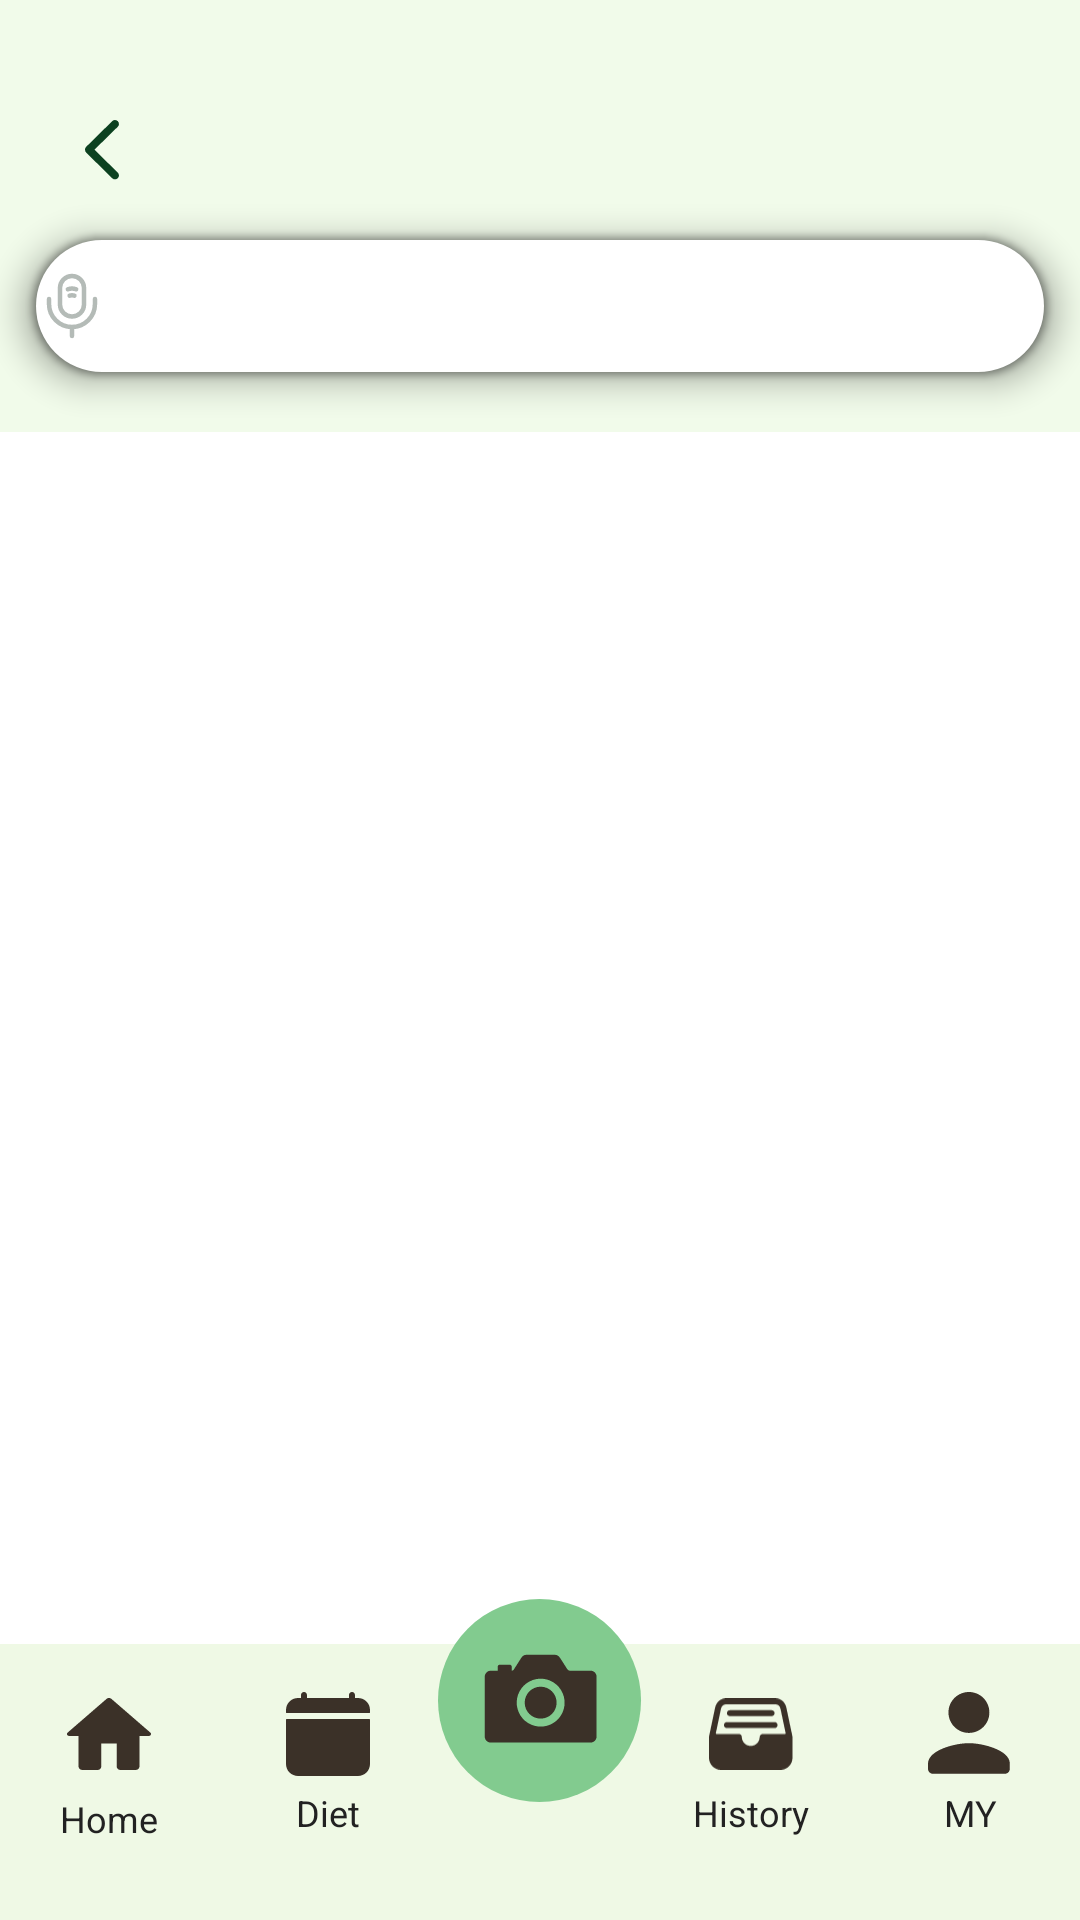

Icons on this 1080*1920 Android screen, each with the point to tap as (x=x, y=y):
뒤로가기: (x=102, y=150)
